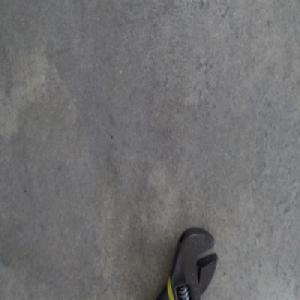AdjustableWrench: (156, 228, 219, 299)
